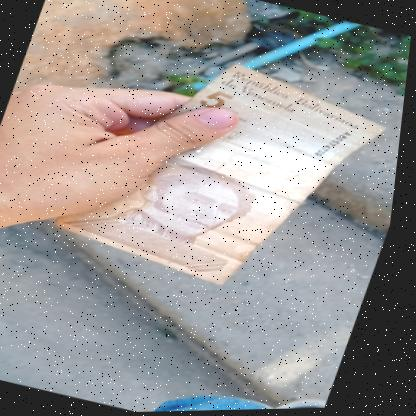five-front-vef: (44, 31, 405, 316)
